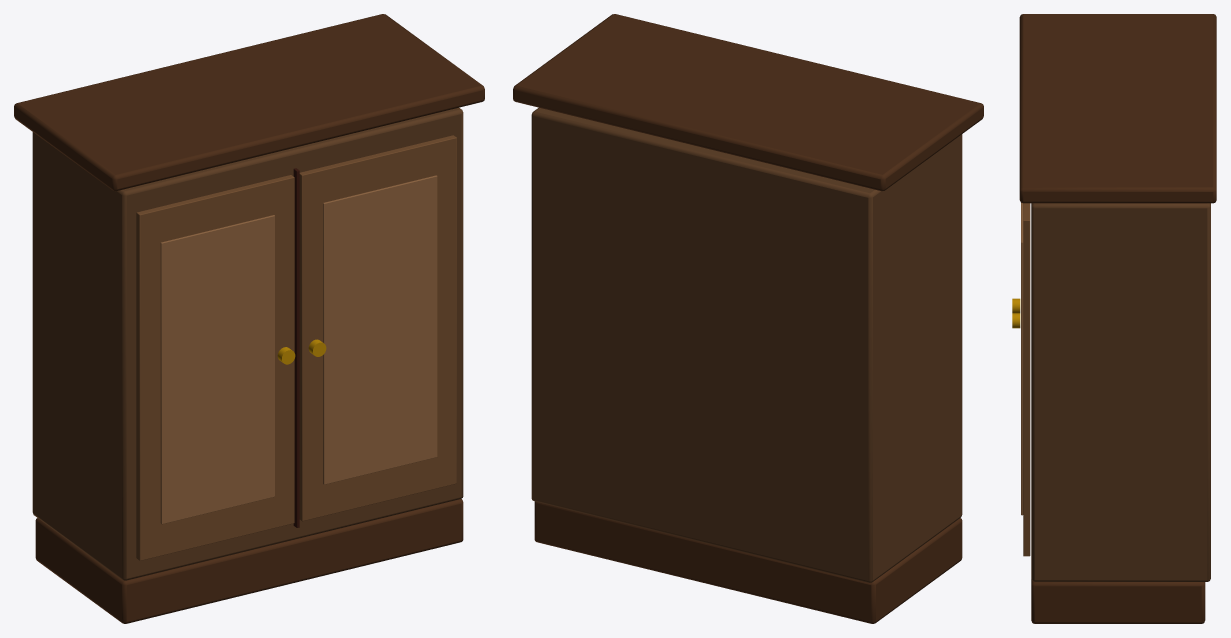
File: TuDoTho_Fix.glb
3 renders of one model, left to right at view 1: azimuth 30°, elevation 25°; view 2: azimuth 150°, elevation 25°; view 3: azimuth 270°, elevation 25°, orthographic. The views are drawn at different scales.
Parts seen in each view (by area): view 1: TuDoTho_Fix; view 2: TuDoTho_Fix; view 3: TuDoTho_Fix.
Part boxes in pixels (box(x1,y1,x2,y2)): TuDoTho_Fix: box(14, 14, 484, 623); TuDoTho_Fix: box(513, 14, 983, 623); TuDoTho_Fix: box(1012, 14, 1216, 623).
Bounding box in the file's own units: 0.72 × 0.845 × 0.353.
